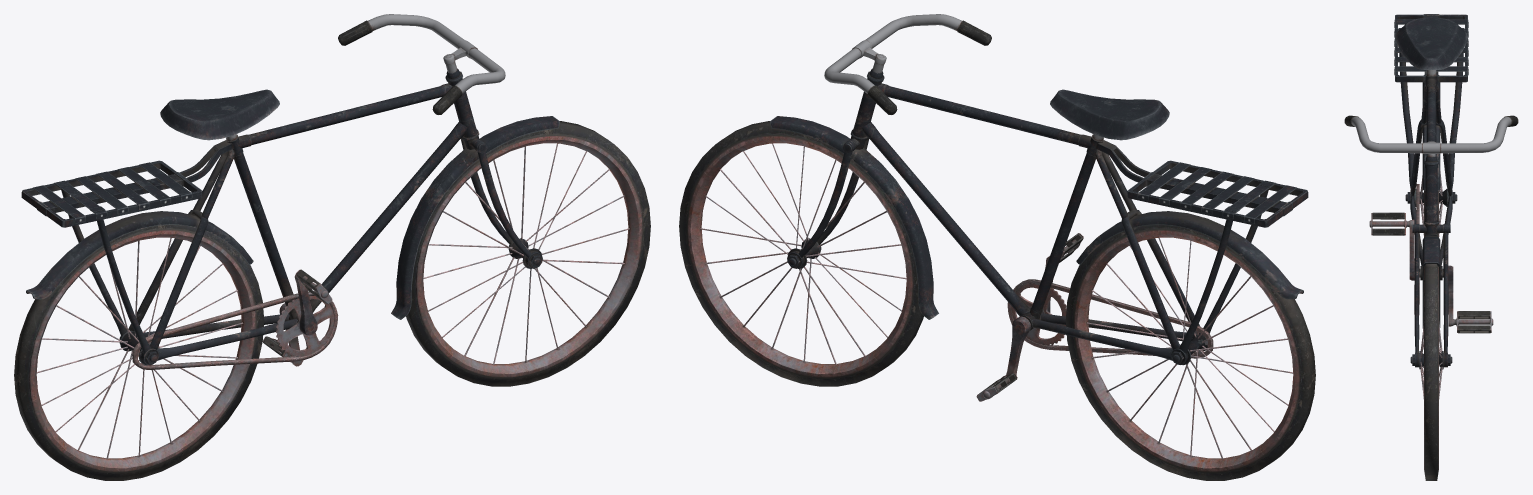
The model's file is LimeExp_1.FBX.
3 views of the same model, side by side, from view 1: azimuth 30°, elevation 25°; view 2: azimuth 150°, elevation 25°; view 3: azimuth 270°, elevation 25° (orthographic). The views are drawn at different scales.
Visible parts, largest first — view 1: Obj3d66-996297-1-736; view 2: Obj3d66-996297-1-736; view 3: Obj3d66-996297-1-736.
Boxes of the visible parts, <box> form: Obj3d66-996297-1-736: <box>14,14,650,480</box>; Obj3d66-996297-1-736: <box>679,14,1315,480</box>; Obj3d66-996297-1-736: <box>1344,14,1518,480</box>.
Bounding box in the file's own units: 1891 × 1031 × 526.
Materials: 1 (1 with a texture image).
